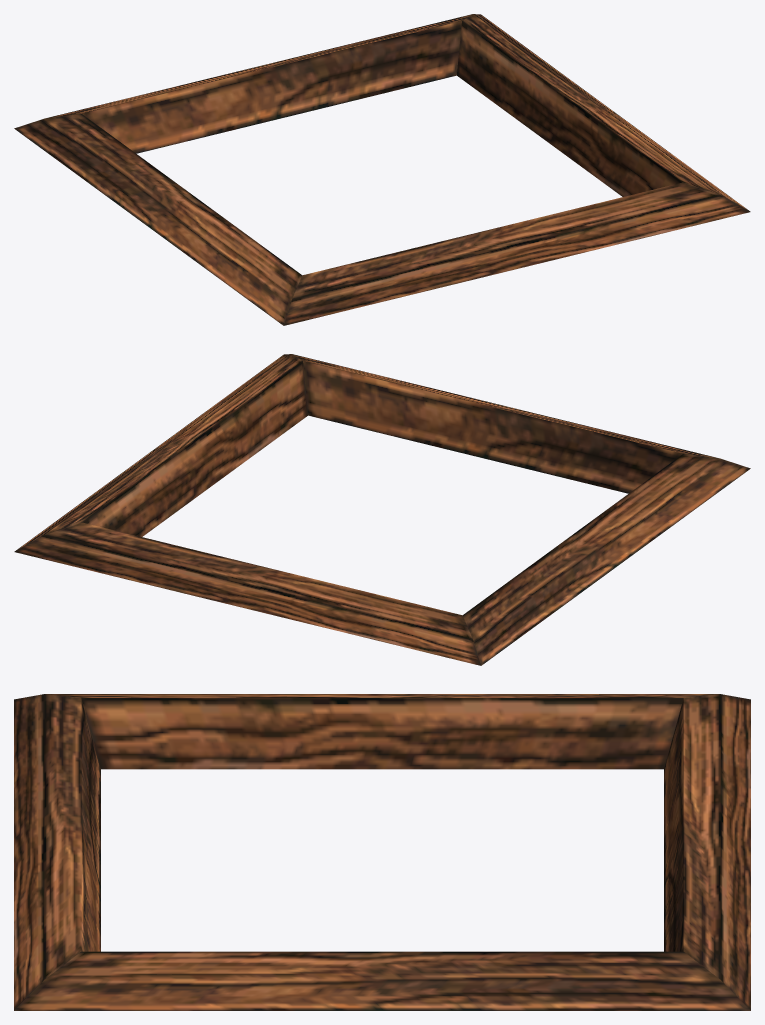
Rendered from INST_LT_PPLATETRIM.fbx.
3 renders of one model, top to bottom at view 1: azimuth 30°, elevation 25°; view 2: azimuth 150°, elevation 25°; view 3: azimuth 270°, elevation 25°, orthographic. The views are drawn at different scales.
Visible parts, largest first — view 1: INST_LT_PPLATETRIM; view 2: INST_LT_PPLATETRIM; view 3: INST_LT_PPLATETRIM.
Boxes of the visible parts, <box> form: INST_LT_PPLATETRIM: <box>14,14,750,325</box>; INST_LT_PPLATETRIM: <box>14,354,750,665</box>; INST_LT_PPLATETRIM: <box>14,694,750,1010</box>.
Bounding box in the file's own units: 25000 × 2359 × 25000.
1 material, 1 textured.
